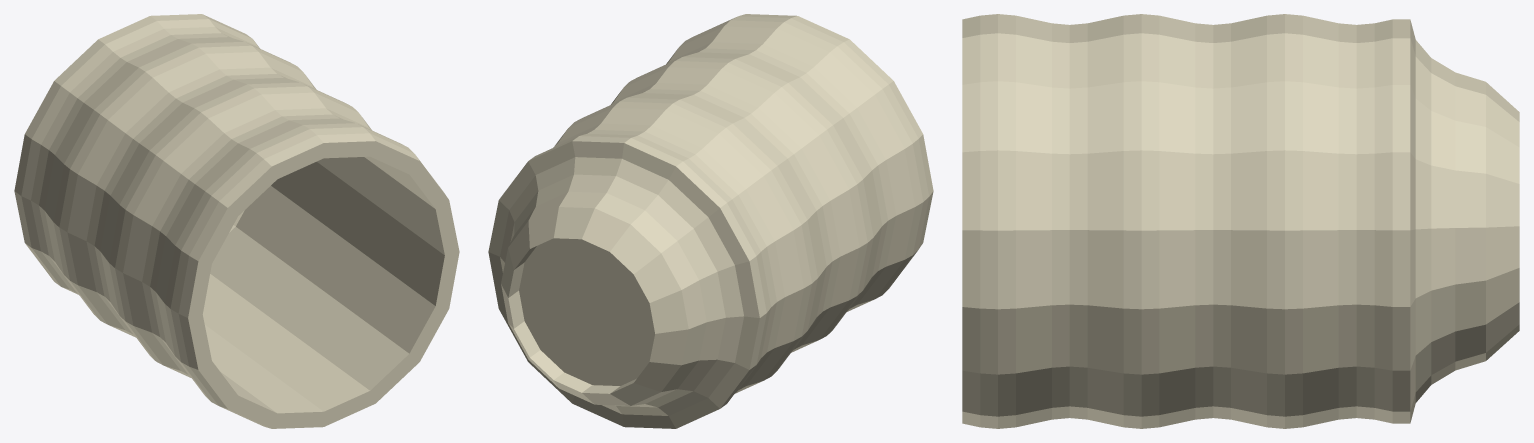
Rendered from nil_link_mesh.dae.
3 views of the same model, side by side, from view 1: azimuth 30°, elevation 25°; view 2: azimuth 150°, elevation 25°; view 3: azimuth 270°, elevation 25° (orthographic). The views are drawn at different scales.
Parts seen in each view (by area): view 1: nil_link; view 2: nil_link; view 3: nil_link.
Boxes of the visible parts, x1,y1,x2,y2 form: nil_link: (14,14,459,428); nil_link: (488,14,933,428); nil_link: (962,14,1519,428).
Bounding box in the file's own units: 0.076 × 0.076 × 0.102.
